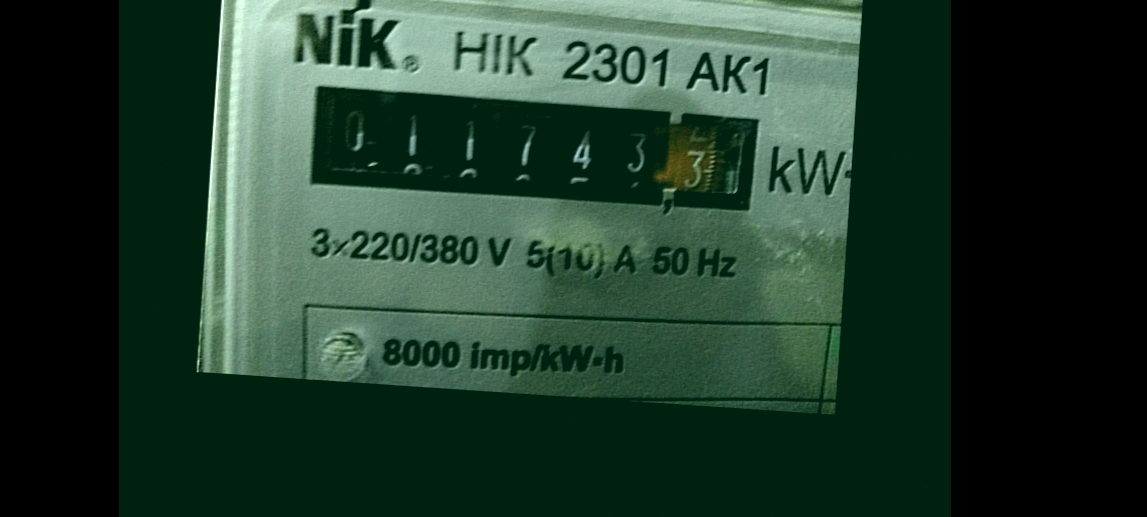0: (342, 109, 374, 157)
1: (462, 118, 486, 167), (407, 114, 427, 163)
3: (625, 131, 656, 180), (684, 149, 711, 194)
4: (571, 126, 602, 176)
7: (517, 123, 544, 173)
screen: (297, 78, 770, 227)
